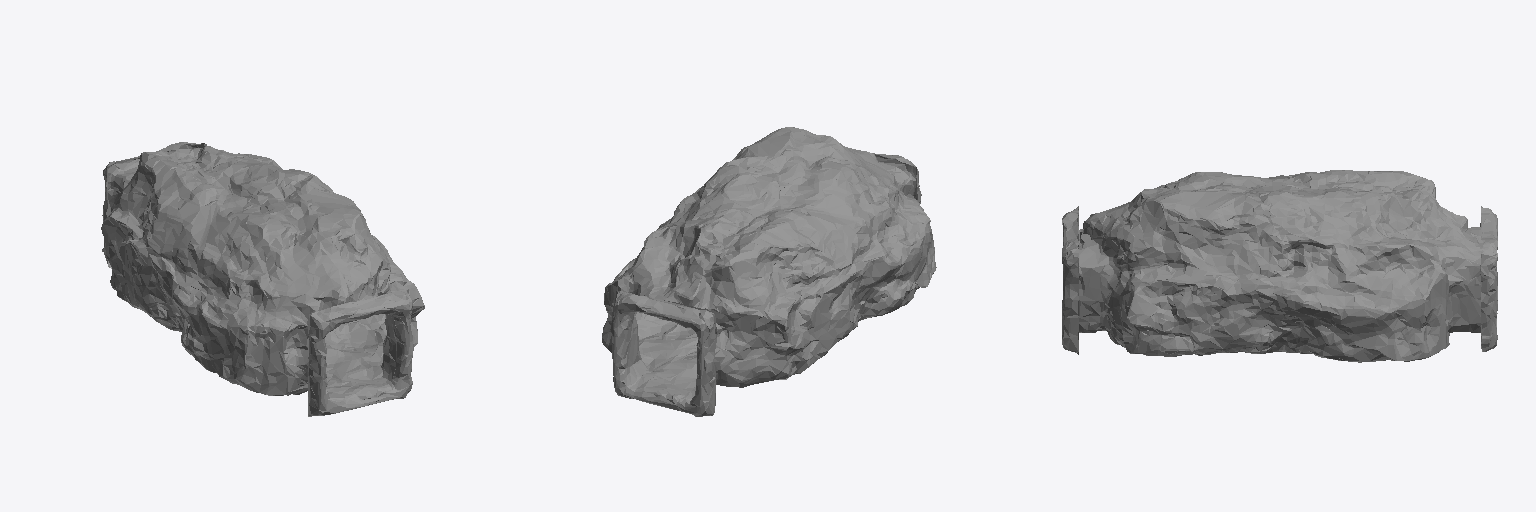
File: zisb_cave_cross_1.obj
The picture shows the model from 3 angles: view 1: azimuth 30°, elevation 25°; view 2: azimuth 150°, elevation 25°; view 3: azimuth 270°, elevation 25°; orthographic projection.
Visible parts, largest first — view 1: defaultobject_defaultobject.005; view 2: defaultobject_defaultobject.005; view 3: defaultobject_defaultobject.005.
Boxes of the visible parts, x1=… form: defaultobject_defaultobject.005: x1=101, y1=142, x2=424, y2=416; defaultobject_defaultobject.005: x1=602, y1=127, x2=936, y2=416; defaultobject_defaultobject.005: x1=1062, y1=170, x2=1497, y2=362.
Bounding box in the file's own units: 8.02 × 5.76 × 14.66.